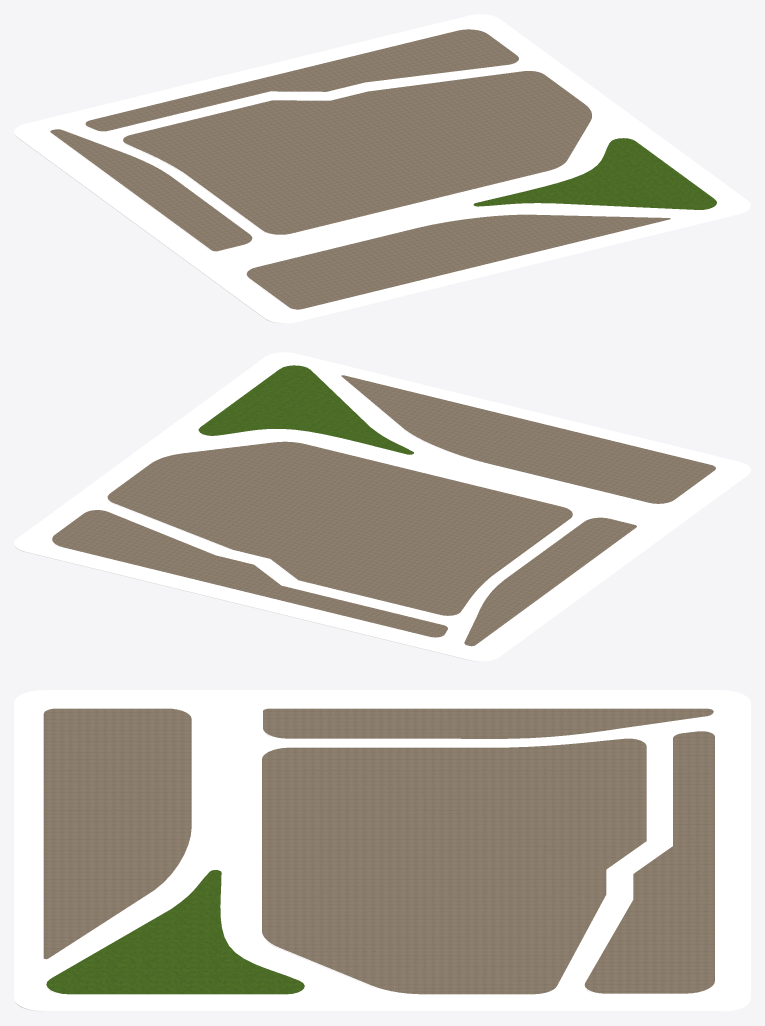
The model's file is land.glb.
The picture shows the model from 3 angles, top to bottom: view 1: azimuth 30°, elevation 25°; view 2: azimuth 150°, elevation 25°; view 3: azimuth 270°, elevation 25°; orthographic projection. The views are drawn at different scales.
Parts seen in each view (by area): view 1: _001; view 2: _001; view 3: _001.
Part boxes in pixels (bbox=[...]): _001: bbox=[14, 14, 750, 323]; _001: bbox=[14, 352, 750, 661]; _001: bbox=[14, 690, 750, 1011].
Size of the model in its own units: 442 by 1 by 429.
4 materials, 4 textured.
